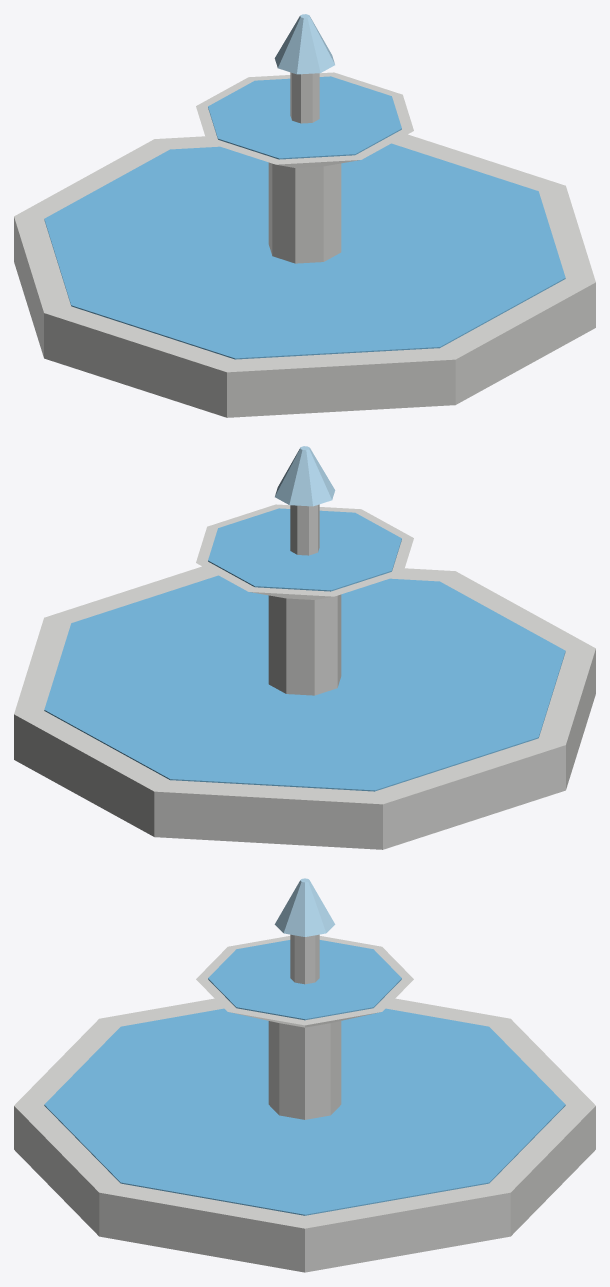
The model's file is fountain.glb.
3 renders of one model, top to bottom at view 1: azimuth 30°, elevation 25°; view 2: azimuth 150°, elevation 25°; view 3: azimuth 270°, elevation 25°, orthographic. The views are drawn at different scales.
Parts seen in each view (by area): view 1: fountain_body; view 2: fountain_body; view 3: fountain_body.
Part boxes in pixels (<box>): fountain_body: <box>14,14,595,417</box>; fountain_body: <box>14,446,595,849</box>; fountain_body: <box>14,878,595,1272</box>.
Size of the model in its own units: 0.48 by 0.245 by 0.48.
